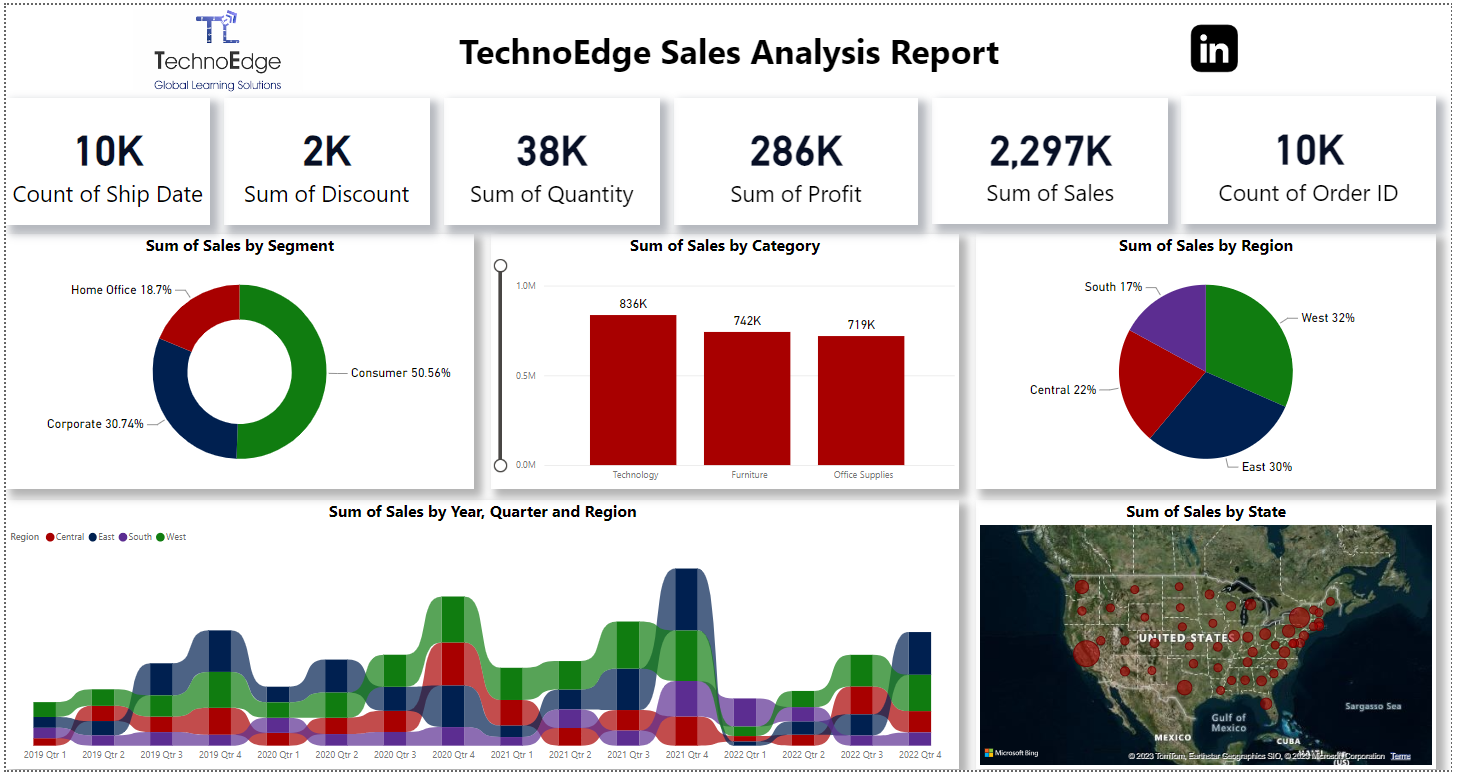

This screenshot's page, from the dashboard's own definition file:
{"tool":"powerbi","page":{"name":"Page 1","canvas":[1700,900],"ordinal":0},"visuals":[{"type":"pieChart","fields":{"Category":["CombinedData.Region"],"Y":["CombinedData.Sales"]},"box":[1141.3,269.8,541.3,300],"z":0},{"type":"donutChart","fields":{"Category":["CombinedData.Segment"],"Y":["CombinedData.Sales"]},"box":[0,269.8,550,300],"z":1000},{"type":"clusteredColumnChart","fields":{"Category":["CombinedData.Category"],"Y":["CombinedData.Sales"]},"box":[570.2,269.8,550.8,300],"z":2000},{"type":"ribbonChart","fields":{"Category":["CombinedData.Order Date.Variation.Date Hierarchy.Year","CombinedData.Order Date.Variation.Date Hierarchy.Quarter","CombinedData.Order Date.Variation.Date Hierarchy.Month","CombinedData.Order Date.Variation.Date Hierarchy.Day"],"Y":["CombinedData.Sales"],"Series":["CombinedData.Region"]},"box":[0,583.1,1121.5,316.9],"z":3000},{"type":"map","fields":{"Category":["CombinedData.State"],"Size":["CombinedData.Sales"]},"box":[1141.5,583.1,541.5,316.9],"z":4000},{"type":"card","fields":{"Values":["CombinedData.Sales"]},"box":[1089.7,108.8,277.9,148.5],"z":5000},{"type":"card","fields":{"Values":["CombinedData.Discount"]},"box":[255.9,108.8,242.6,150],"z":6000},{"type":"card","fields":{"Values":["CombinedData.Quantity"]},"box":[514.7,108.8,254.4,150],"z":7000},{"type":"card","fields":{"Values":["CombinedData.Profit"]},"box":[785.3,108.8,288.2,150],"z":8000},{"type":"card","fields":{"Values":["CombinedData.Order ID"]},"box":[1382.4,107.4,300,150],"z":9000},{"type":"card","fields":{"Values":["CombinedData.Ship Date"]},"box":[0,108.8,239.7,150],"z":10000},{"type":"actionButton","box":[525,5.9,651.5,95.6],"z":11000},{"type":"image","box":[120.6,0,257.4,107.4],"z":12000},{"type":"image","box":[1367.6,0,107.4,101.5],"z":13000}]}

Visuals, with their boxes in screenshot pixels (x1, y1, x2, y2), scaled from the page's 1700x900 canvas onto the 1457x773 screenshot:
pieChart - CombinedData.Region x CombinedData.Sales: [left=978, top=232, right=1442, bottom=489]
donutChart - CombinedData.Segment x CombinedData.Sales: [left=0, top=232, right=471, bottom=489]
clusteredColumnChart - CombinedData.Category x CombinedData.Sales: [left=489, top=232, right=961, bottom=489]
ribbonChart - CombinedData.Order Date.Variation.Date Hierarchy.Year x CombinedData.Order Date.Variation.Date Hierarchy.Quarter: [left=0, top=501, right=961, bottom=772]
map - CombinedData.State x CombinedData.Sales: [left=978, top=501, right=1442, bottom=772]
card - CombinedData.Sales: [left=934, top=93, right=1172, bottom=221]
card - CombinedData.Discount: [left=219, top=93, right=427, bottom=222]
card - CombinedData.Quantity: [left=441, top=93, right=659, bottom=222]
card - CombinedData.Profit: [left=673, top=93, right=920, bottom=222]
card - CombinedData.Order ID: [left=1185, top=92, right=1442, bottom=221]
card - CombinedData.Ship Date: [left=0, top=93, right=205, bottom=222]
actionButton: [left=450, top=5, right=1008, bottom=87]
image: [left=103, top=0, right=324, bottom=92]
image: [left=1172, top=0, right=1264, bottom=87]
